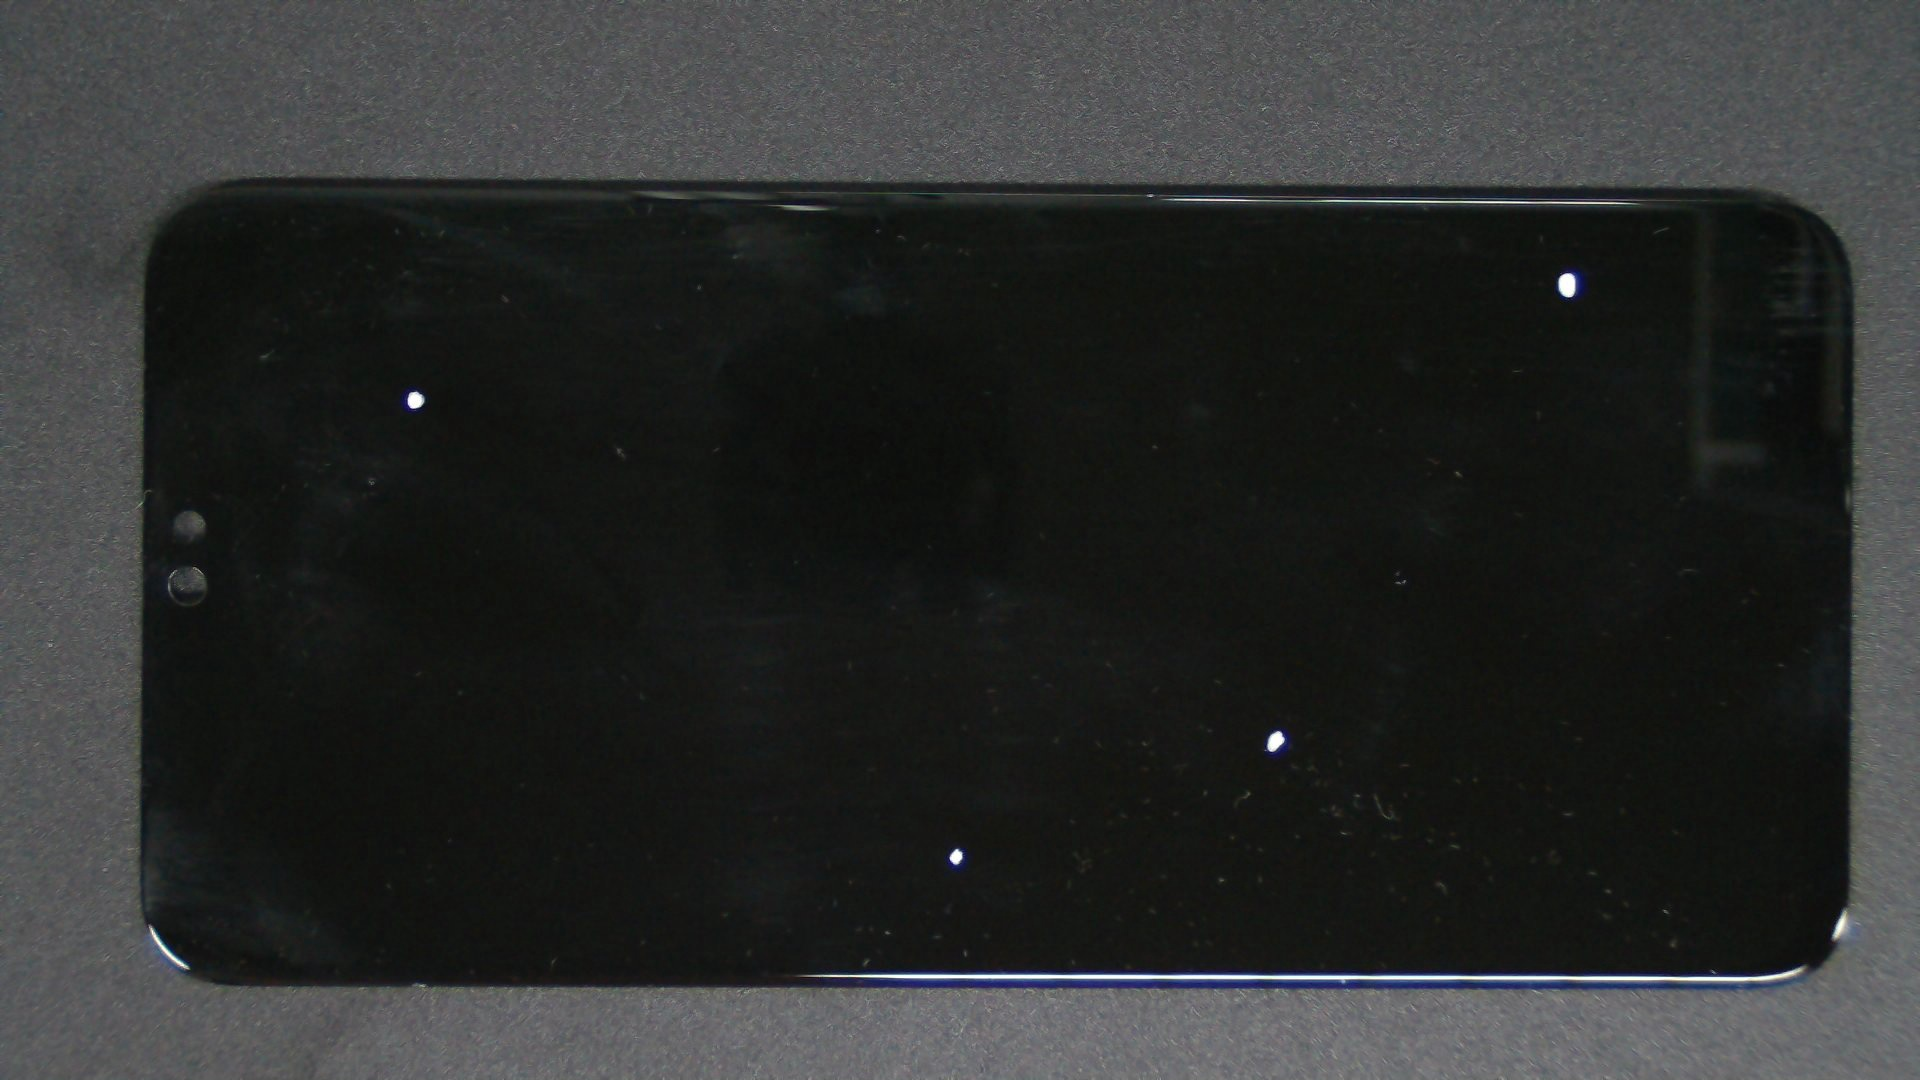oil: (640, 364, 1916, 1080), (477, 423, 1432, 1080), (786, 135, 1920, 407), (208, 194, 624, 585)
